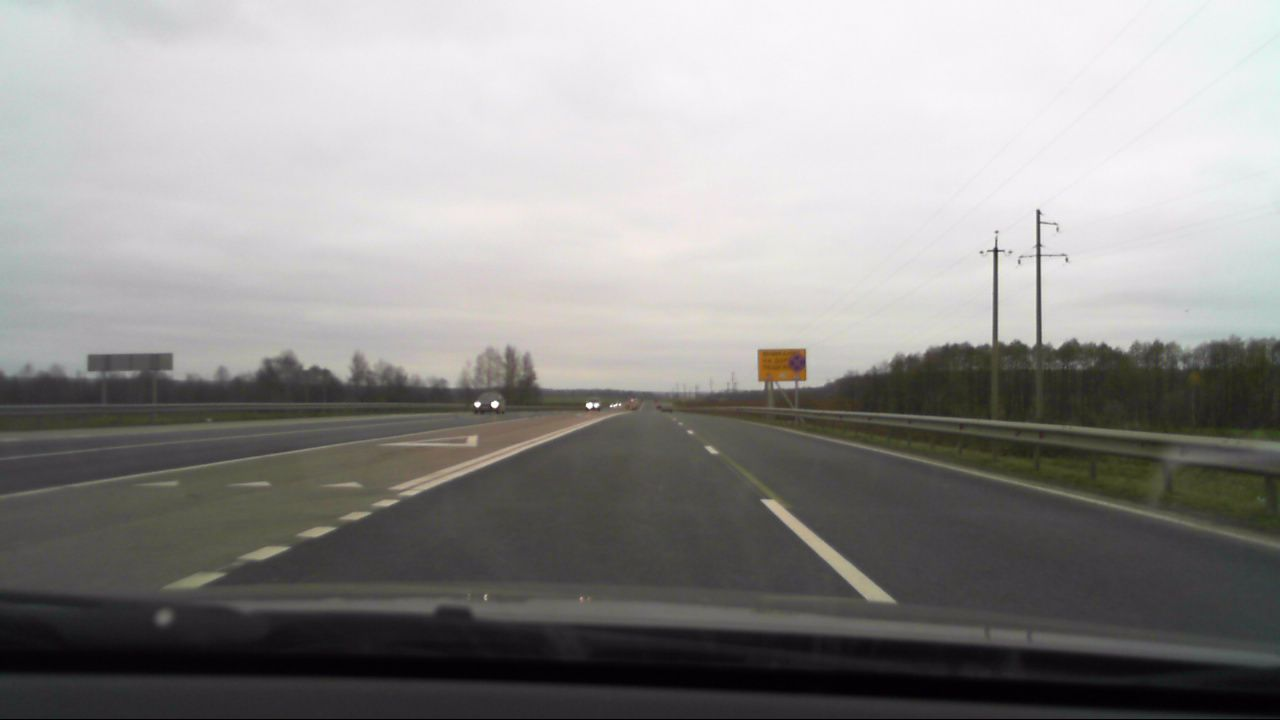No Parking: (782, 352, 806, 375)
